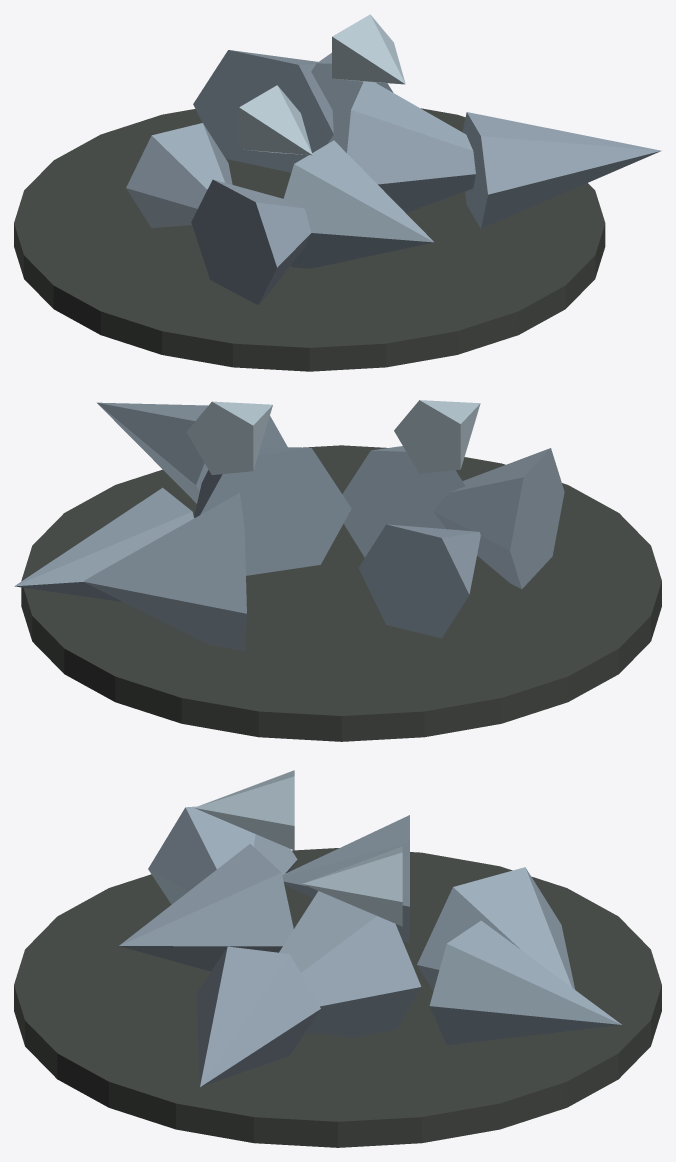
The model's file is ore_resource_node.glb.
3 views of the same model, one above another, from view 1: azimuth 30°, elevation 25°; view 2: azimuth 150°, elevation 25°; view 3: azimuth 270°, elevation 25° (orthographic). The views are drawn at different scales.
Visible parts, largest first — view 1: footprint, ore_rock_3, ore_rock_2, ore_rock_1, ore_rock_4, ore_rock_5, ore_rock_0, ore_highlight_0, ore_highlight_1, ore_rock_6; view 2: footprint, ore_rock_5, ore_rock_2, ore_rock_4, ore_rock_0, ore_rock_1, ore_rock_6, ore_rock_3, ore_highlight_1, ore_highlight_0; view 3: footprint, ore_rock_2, ore_rock_6, ore_rock_3, ore_rock_1, ore_rock_5, ore_rock_4, ore_highlight_0, ore_highlight_1, ore_rock_0.
Part boxes in pixels (left/top/right/bottom): footprint: left=14, top=108, right=605, bottom=371; ore_rock_3: left=462, top=112, right=661, bottom=228; ore_rock_2: left=347, top=81, right=475, bottom=212; ore_rock_1: left=283, top=140, right=434, bottom=268; ore_rock_4: left=191, top=179, right=311, bottom=305; ore_rock_5: left=193, top=50, right=333, bottom=172; ore_rock_0: left=126, top=123, right=232, bottom=227; ore_highlight_0: left=239, top=85, right=312, bottom=155; ore_highlight_1: left=332, top=14, right=405, bottom=84; ore_rock_6: left=311, top=53, right=393, bottom=152; footprint: left=21, top=445, right=661, bottom=741; ore_rock_5: left=84, top=493, right=246, bottom=651; ore_rock_2: left=194, top=447, right=351, bottom=575; ore_rock_4: left=433, top=448, right=564, bottom=588; ore_rock_0: left=358, top=524, right=480, bottom=638; ore_rock_1: left=342, top=446, right=465, bottom=557; ore_rock_6: left=14, top=487, right=194, bottom=601; ore_rock_3: left=97, top=402, right=287, bottom=503; ore_highlight_1: left=186, top=401, right=272, bottom=474; ore_highlight_0: left=394, top=400, right=480, bottom=473; footprint: left=14, top=848, right=661, bottom=1147; ore_rock_2: left=279, top=891, right=421, bottom=1038; ore_rock_6: left=429, top=920, right=621, bottom=1045; ore_rock_3: left=196, top=946, right=320, bottom=1087; ore_rock_1: left=119, top=844, right=293, bottom=971; ore_rock_5: left=417, top=867, right=575, bottom=990; ore_rock_4: left=148, top=806, right=297, bottom=904; ore_highlight_0: left=194, top=770, right=294, bottom=850; ore_highlight_1: left=302, top=846, right=402, bottom=926; ore_rock_0: left=282, top=815, right=409, bottom=943.
Size of the model in its own units: 1.92 by 0.6341 by 1.8.
